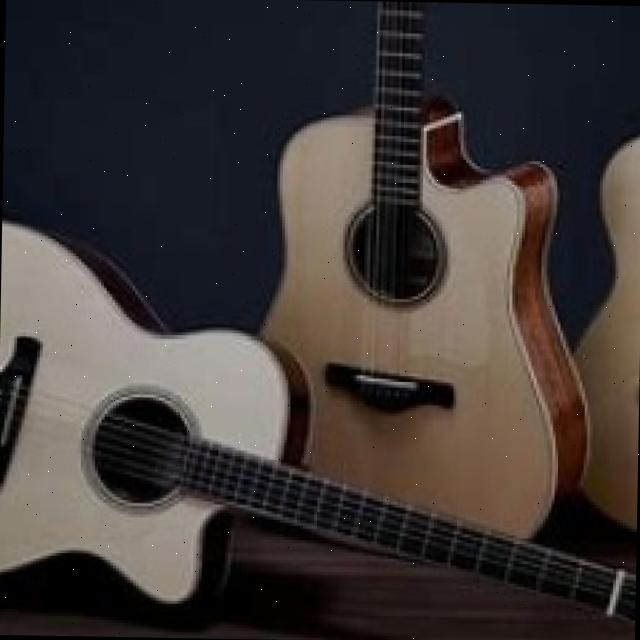guitar: (0, 213, 640, 640), (228, 0, 601, 569), (556, 115, 640, 541)
